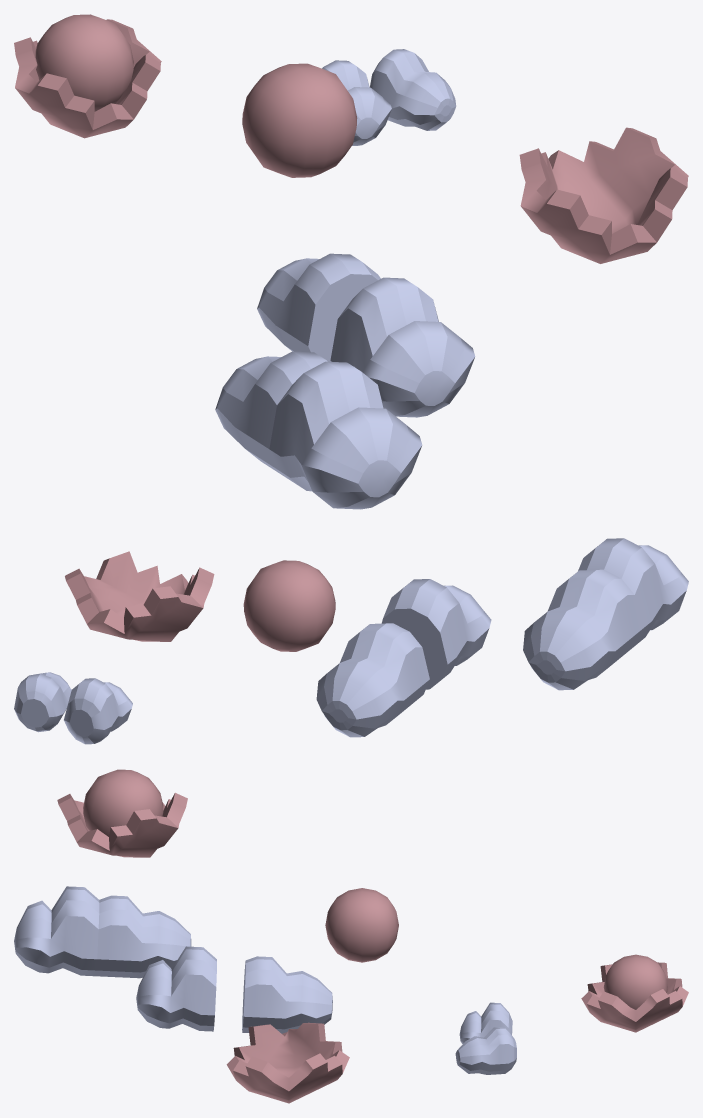
The model's file is Unusualobjects.fbx.
3 renders of one model, top to bottom at view 1: azimuth 30°, elevation 25°; view 2: azimuth 150°, elevation 25°; view 3: azimuth 270°, elevation 25°, orthographic. The views are drawn at different scales.
Visible parts, largest first — view 1: Cloud, Cloud_Cut, Water_bow, Tide, Sun_Sand, Cloud_Present; view 2: Cloud_Cut, Cloud, Water_bow, Tide, Sun_Sand, Cloud_Present; view 3: Cloud, Cloud_Cut, Water_bow, Tide, Sun_Sand, Cloud_Present.
Boxes of the visible parts, bbox=[...] form: Cloud: bbox=[215, 351, 422, 509]; Cloud_Cut: bbox=[257, 253, 475, 417]; Water_bow: bbox=[519, 127, 688, 263]; Tide: bbox=[14, 14, 161, 138]; Sun_Sand: bbox=[242, 63, 357, 177]; Cloud_Present: bbox=[322, 49, 456, 145]; Cloud_Cut: bbox=[316, 579, 491, 737]; Cloud: bbox=[523, 538, 688, 690]; Water_bow: bbox=[65, 551, 214, 641]; Tide: bbox=[57, 769, 187, 857]; Sun_Sand: bbox=[243, 560, 335, 651]; Cloud_Present: bbox=[14, 672, 132, 744]; Cloud: bbox=[14, 886, 191, 978]; Cloud_Cut: bbox=[136, 946, 332, 1033]; Water_bow: bbox=[226, 1022, 349, 1103]; Tide: bbox=[581, 954, 688, 1032]; Sun_Sand: bbox=[325, 888, 398, 962]; Cloud_Present: bbox=[455, 1002, 516, 1074].
Bounding box in the file's own units: 1.66 × 0.6469 × 2.6.
